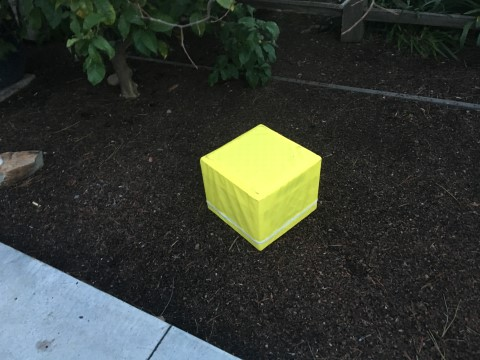cube: (198, 122, 322, 252)
